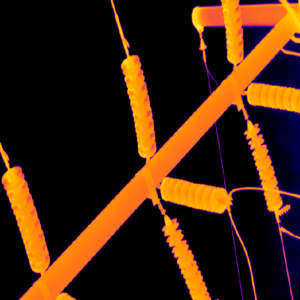insulator: (0, 165, 49, 274), (159, 218, 210, 300), (120, 51, 155, 158), (243, 120, 283, 213), (159, 175, 227, 215), (246, 80, 300, 112), (220, 0, 242, 63)
